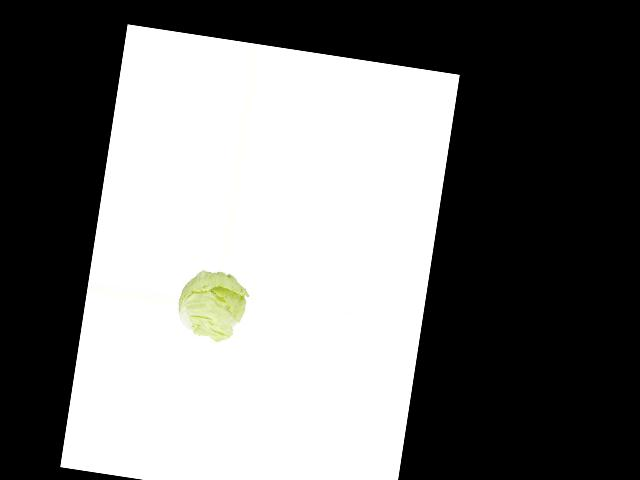lettuce: (172, 266, 250, 342)
